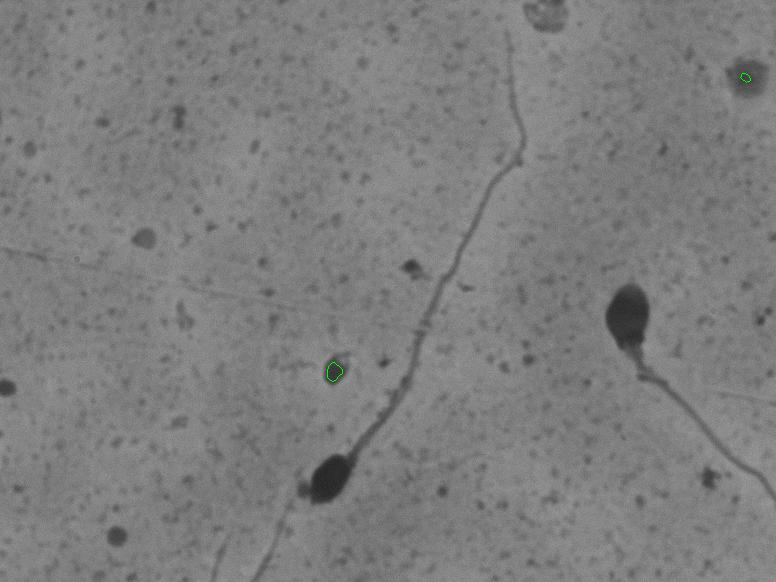Abnormal: (299, 23, 538, 513), (578, 244, 754, 498)
